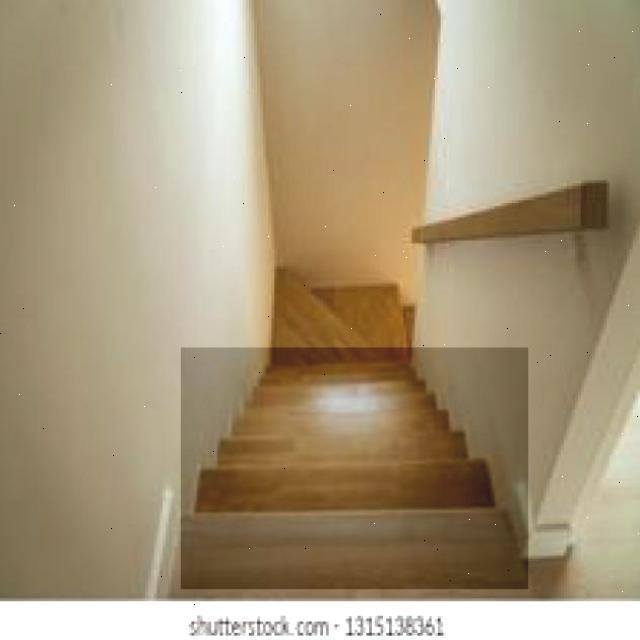stair: (181, 347, 528, 589)
